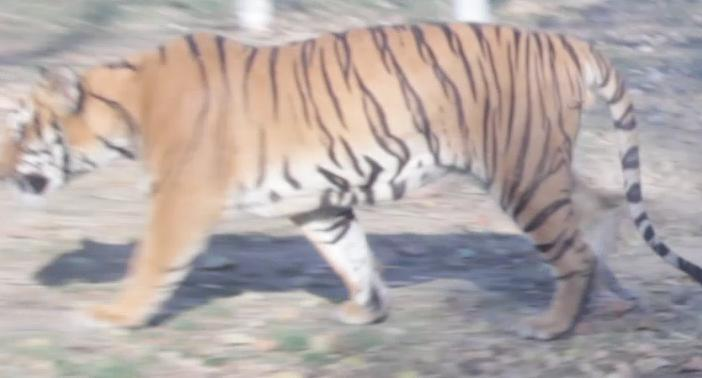tiger: (0, 22, 701, 336)
